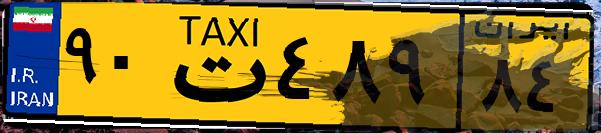0: (110, 28, 158, 98)
4: (270, 28, 330, 110), (525, 38, 570, 115)
8: (330, 28, 385, 110), (475, 38, 525, 113)
9: (385, 28, 445, 110), (57, 26, 110, 100)
ت: (158, 12, 270, 120)
